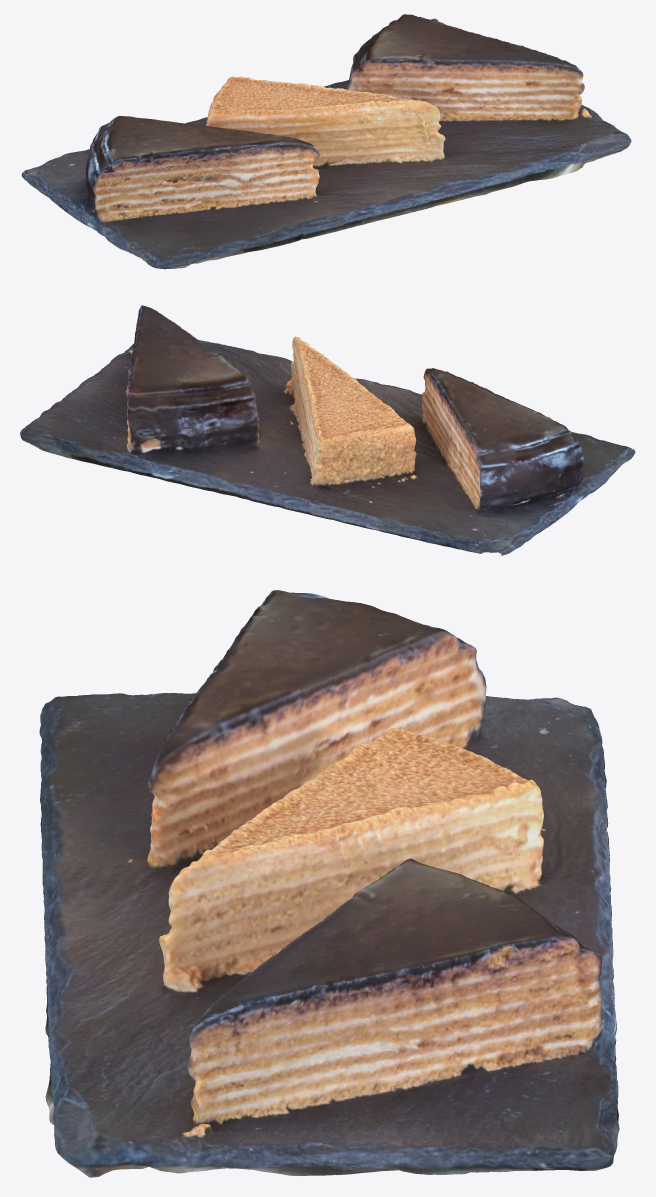
Rendered from keik.mossallasi.final.glb.
3 views of the same model, one above another, from view 1: azimuth 30°, elevation 25°; view 2: azimuth 150°, elevation 25°; view 3: azimuth 270°, elevation 25° (orthographic). The views are drawn at different scales.
Visible parts, largest first — view 1: object 1; view 2: object 1; view 3: object 1.
Part boxes in pixels (<box>): object 1: <box>21,14,631,269</box>; object 1: <box>20,305,635,555</box>; object 1: <box>39,590,619,1177</box>.
Size of the model in its own units: 0.3099 by 0.0465 by 0.1603.
Materials: 2 (1 with a texture image).
